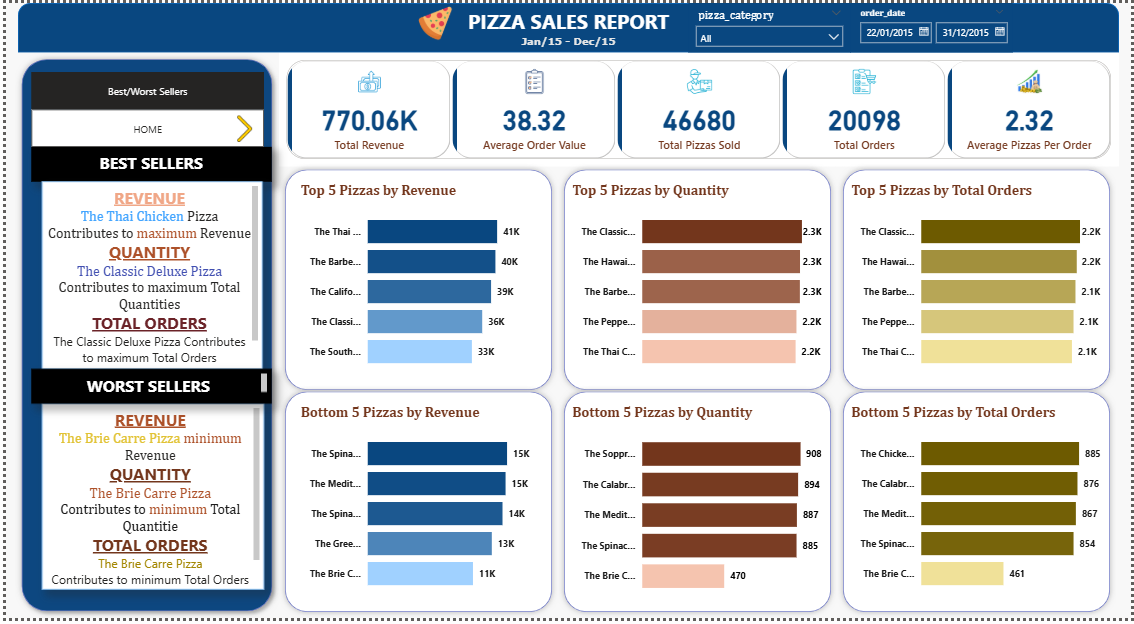

This screenshot's page, from the dashboard's own definition file:
{"tool":"powerbi","page":{"name":"Best/Worst Sellers","canvas":[1500,820],"ordinal":1},"visuals":[{"type":"cardVisual","fields":{"Data":["pizza_sales.Total Revenue","pizza_sales.Average Order Value","pizza_sales.Total Pizzas Sold","pizza_sales.Total Orders","pizza_sales.Average Pizzas Per Order"]},"box":[364,66,1120,152],"z":0},{"type":"shape","box":[16,0,1468,66],"z":1000},{"type":"textbox","box":[590,0,320,52],"z":2000},{"type":"shape","box":[12,66,352,754],"z":3000},{"type":"textbox","box":[680,36,140,30],"z":4000},{"type":"image","box":[538,4,68,46],"z":5000},{"type":"textbox","box":[34,192,320,46],"z":6000},{"type":"textbox","box":[48,238,294,250],"z":7000},{"type":"textbox","box":[48,534,296,248],"z":8000},{"type":"textbox","box":[34,488,320,46],"z":9000},{"type":"slicer","fields":{"Values":["pizza_sales.order_date"]},"box":[1126,0,216,66],"z":10000},{"type":"slicer","fields":{"Values":["pizza_sales.pizza_category"]},"box":[910,0,216,66],"z":11000},{"type":"shape","box":[1108,214,372,310],"z":12000},{"type":"shape","box":[736,214,372,310],"z":13000},{"type":"shape","box":[364,214,372,310],"z":14000},{"type":"shape","box":[1108,510,372,310],"z":15000},{"type":"shape","box":[736,510,372,310],"z":16000},{"type":"shape","box":[364,510,372,310],"z":17000},{"type":"barChart","title":"Top 5 Pizzas by Revenue ","fields":{"Category":["pizza_sales.pizza_name"],"Y":["pizza_sales.Total Revenue"]},"box":[388,238,324,264],"z":18000},{"type":"barChart","title":"Bottom 5 Pizzas by Revenue ","fields":{"Category":["pizza_sales.pizza_name"],"Y":["pizza_sales.Total Revenue"]},"box":[388,534,324,264],"z":19000},{"type":"barChart","title":"Top 5 Pizzas by Quantity","fields":{"Category":["pizza_sales.pizza_name"],"Y":["pizza_sales.Total Pizzas Sold"]},"box":[750,238,342,264],"z":20000},{"type":"barChart","title":"Bottom 5 Pizzas by Quantity","fields":{"Category":["pizza_sales.pizza_name"],"Y":["pizza_sales.Total Pizzas Sold"]},"box":[750,534,342,268],"z":21000},{"type":"barChart","title":"Top 5 Pizzas by Total Orders","fields":{"Category":["pizza_sales.pizza_name"],"Y":["pizza_sales.Total Orders"]},"box":[1122,238,342,264],"z":22000},{"type":"barChart","title":"Bottom 5 Pizzas by Total  Orders","fields":{"Category":["pizza_sales.pizza_name"],"Y":["pizza_sales.Total Orders"]},"box":[1122,534,342,264],"z":23000},{"type":"pageNavigator","box":[34,92,310,50],"z":24000},{"type":"pageNavigator","box":[34,142,310,50],"z":25000},{"type":"image","box":[299.1,150,36.4,35.5],"z":26000}]}

Visuals, with their boxes in screenshot pixels (x1, y1, x2, y2), scaled from the page's 1500x820 canvas onto the 1134x624 screenshot:
cardVisual - pizza_sales.Total Revenue x pizza_sales.Average Order Value: bbox(275, 50, 1122, 166)
shape: bbox(12, 0, 1122, 50)
textbox: bbox(446, 0, 688, 40)
shape: bbox(9, 50, 275, 623)
textbox: bbox(514, 27, 620, 50)
image: bbox(407, 3, 458, 38)
textbox: bbox(26, 146, 268, 181)
textbox: bbox(36, 181, 259, 371)
textbox: bbox(36, 406, 260, 595)
textbox: bbox(26, 371, 268, 406)
slicer - pizza_sales.order_date: bbox(851, 0, 1015, 50)
slicer - pizza_sales.pizza_category: bbox(688, 0, 851, 50)
shape: bbox(838, 163, 1119, 399)
shape: bbox(556, 163, 838, 399)
shape: bbox(275, 163, 556, 399)
shape: bbox(838, 388, 1119, 623)
shape: bbox(556, 388, 838, 623)
shape: bbox(275, 388, 556, 623)
"Top 5 Pizzas by Revenue " barChart: bbox(293, 181, 538, 382)
"Bottom 5 Pizzas by Revenue " barChart: bbox(293, 406, 538, 607)
"Top 5 Pizzas by Quantity" barChart: bbox(567, 181, 826, 382)
"Bottom 5 Pizzas by Quantity" barChart: bbox(567, 406, 826, 610)
"Top 5 Pizzas by Total Orders" barChart: bbox(848, 181, 1107, 382)
"Bottom 5 Pizzas by Total  Orders" barChart: bbox(848, 406, 1107, 607)
pageNavigator: bbox(26, 70, 260, 108)
pageNavigator: bbox(26, 108, 260, 146)
image: bbox(226, 114, 254, 141)
